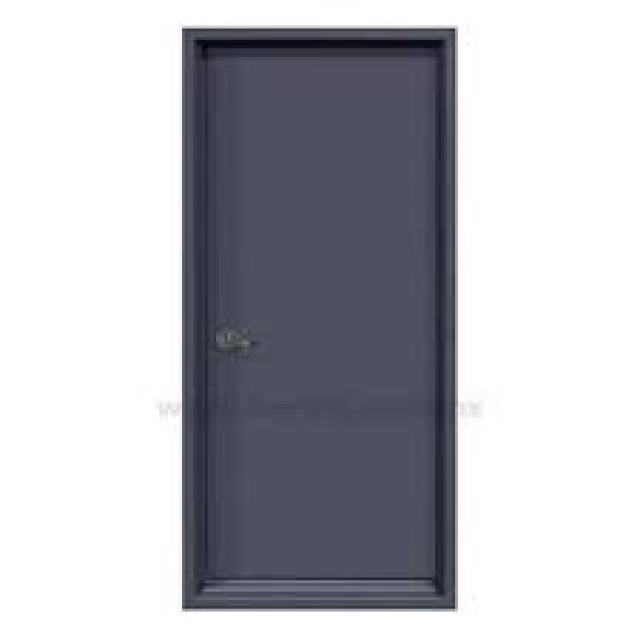door: (180, 28, 457, 609)
